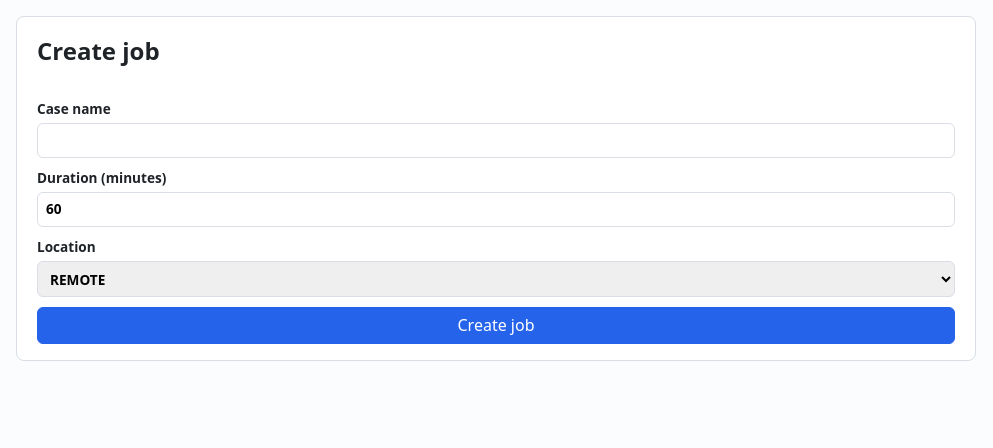
Test case: CreateJobForm › hides the city field for REMOTE and shows it for PHYSICAL
expect the field labelled "City" is not shown: met
Select "PHYSICAL" in the dropdown labelled "Location" at x=496, y=279, box [37,261,955,297]
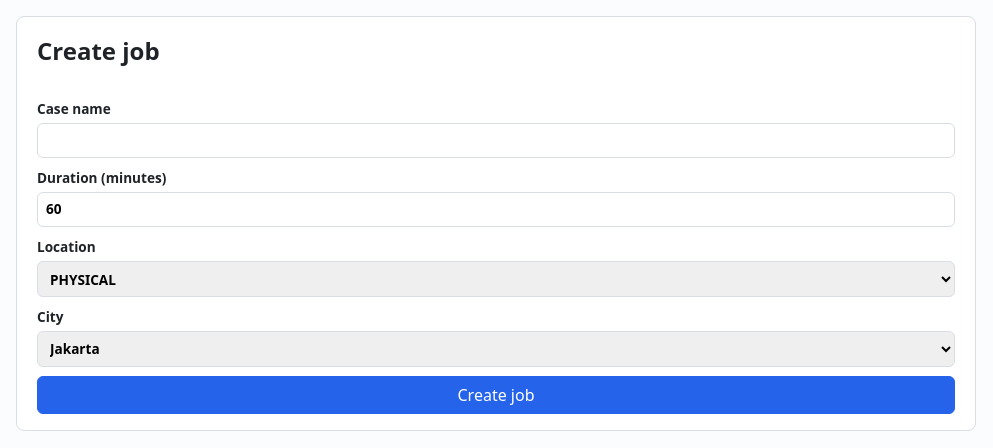
expect the dropdown labelled "City" is shown: met, box [37,331,955,367]
